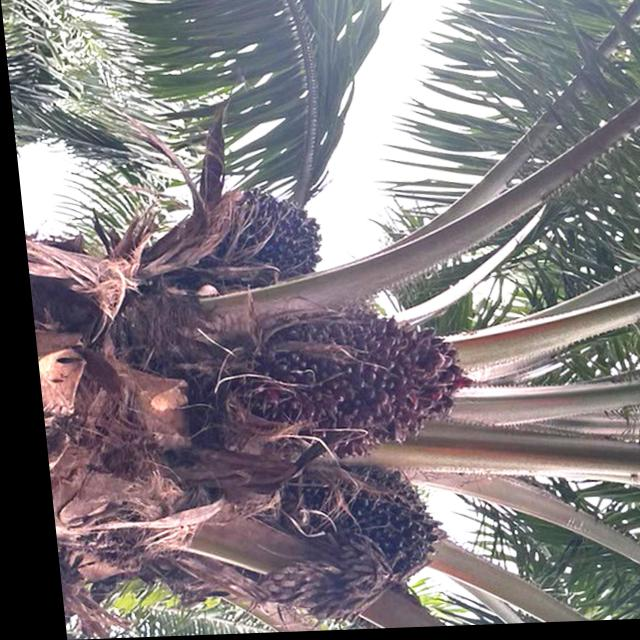ripe: (217, 297, 484, 464)
